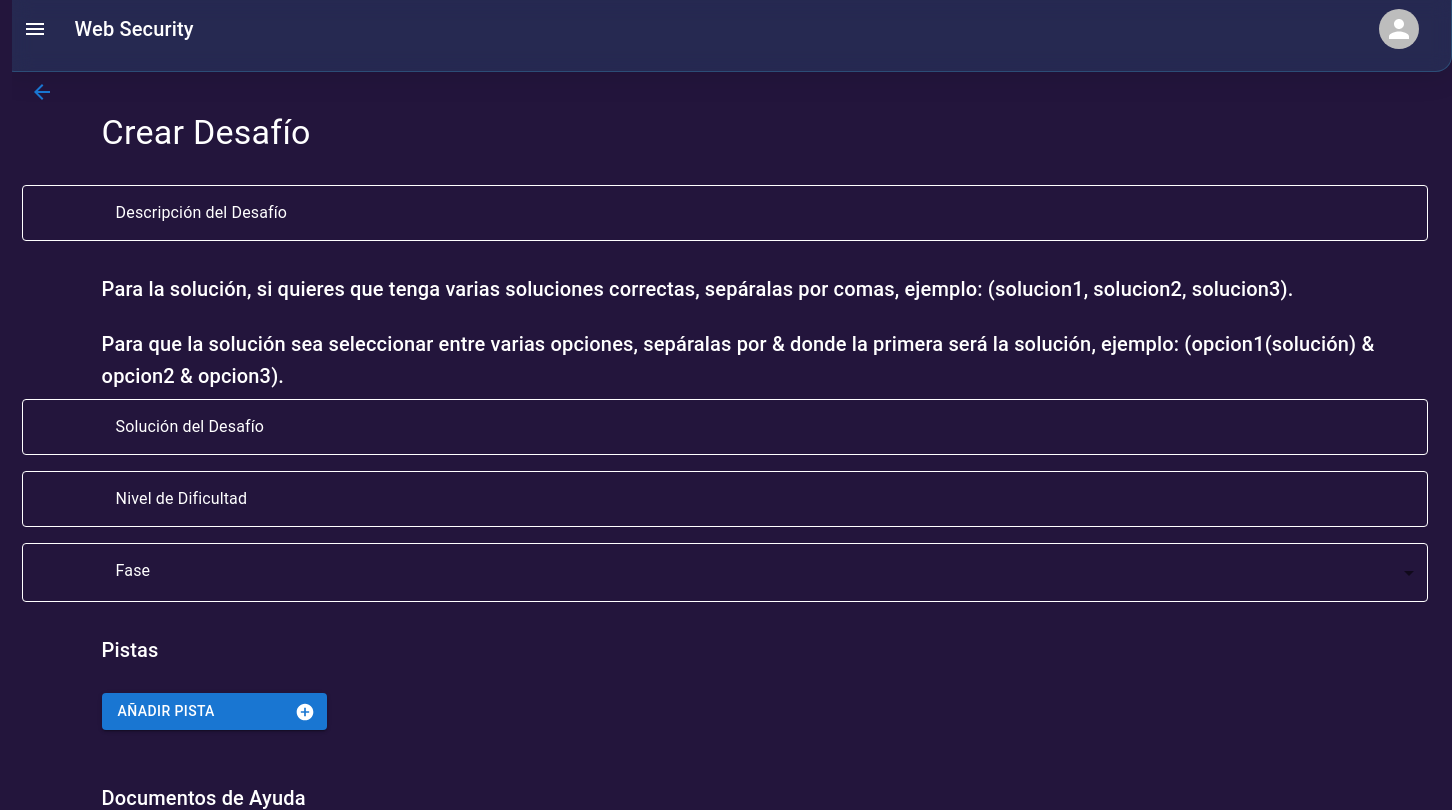
it: CreateChallenge Page › fetches and displays phases data
Step 1. Press the mouse on the dropdown named "Fase" → (765, 573), box top-left (102, 544), bottom-right (1428, 602)
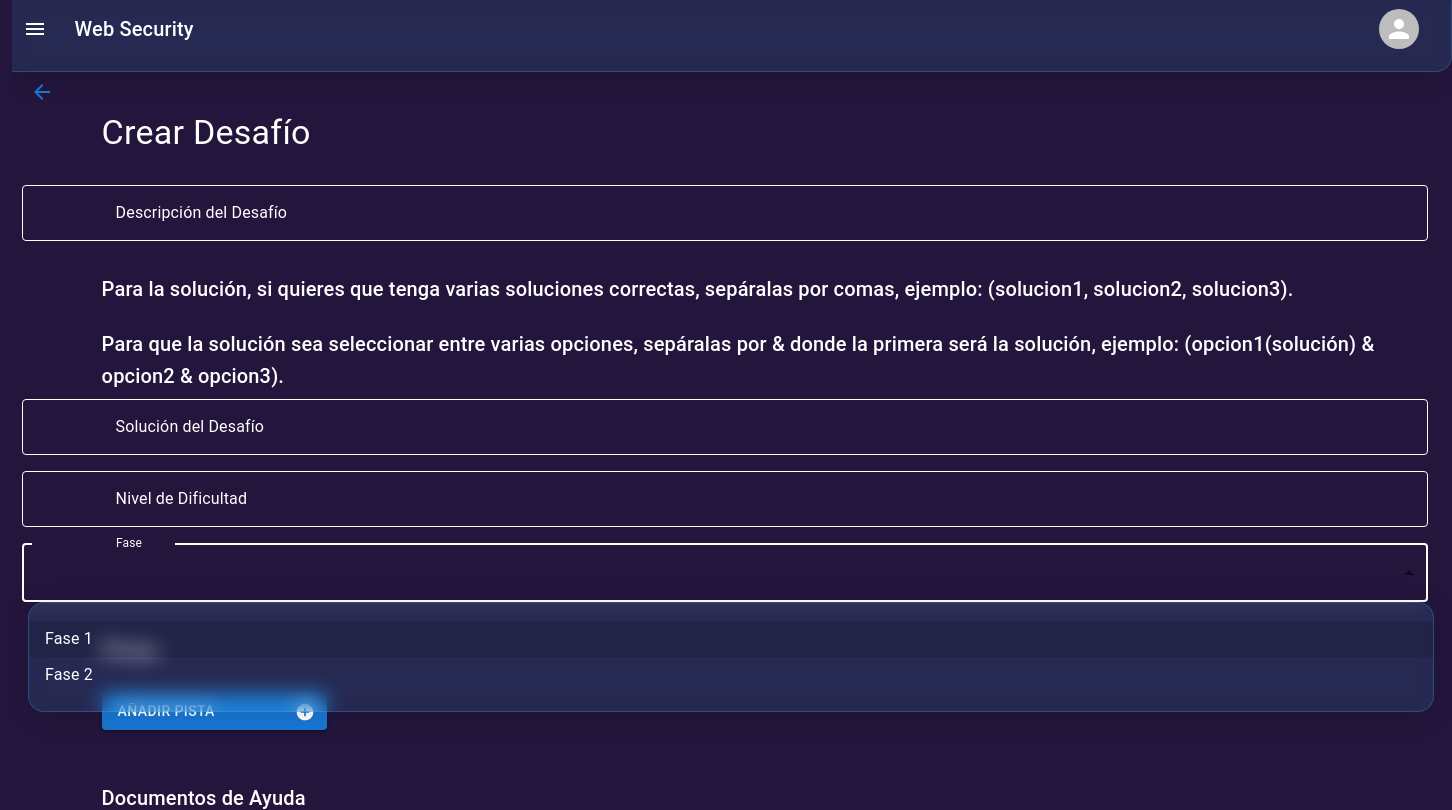
Check: the option "Fase 1" is shown, box top-left (29, 621), bottom-right (1433, 657)
Check: the option "Fase 2" is shown, box top-left (45, 665), bottom-right (93, 684)
